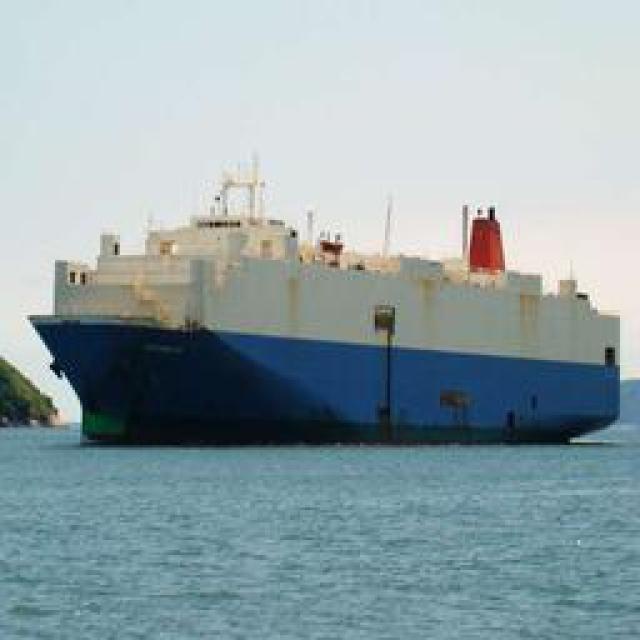Ship: (25, 155, 623, 440)
